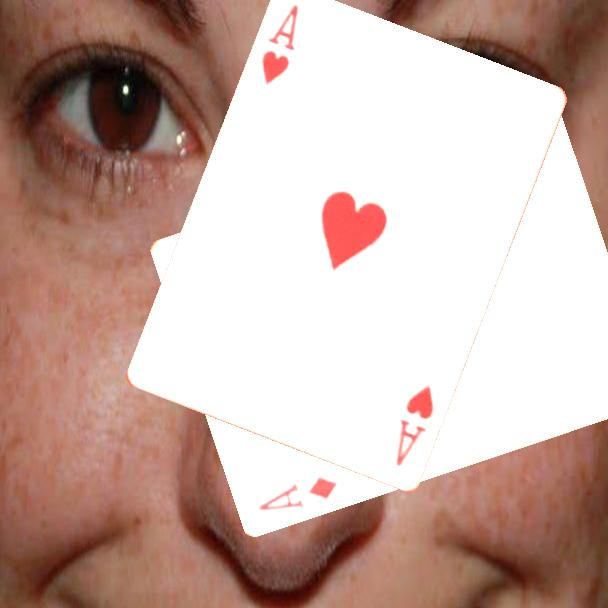d01: (256, 473, 340, 513)
h01: (392, 382, 437, 470), (258, 1, 302, 88)
